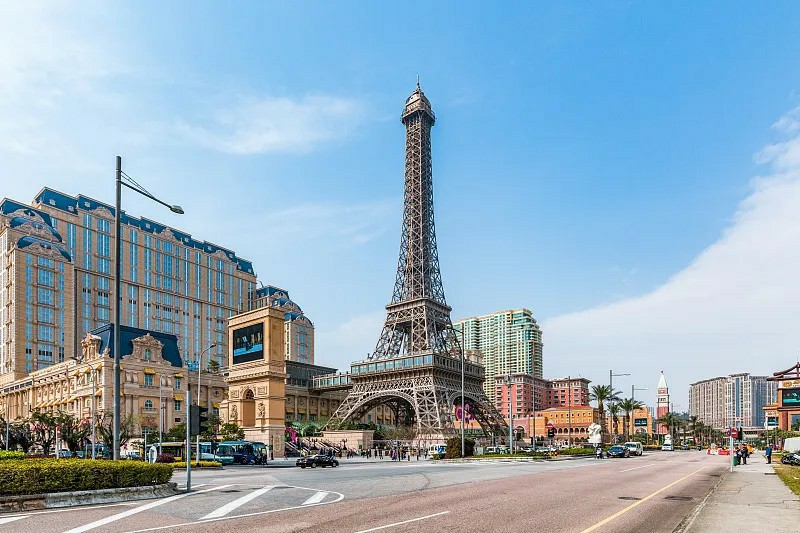Eiffel: (320, 73, 512, 453)
